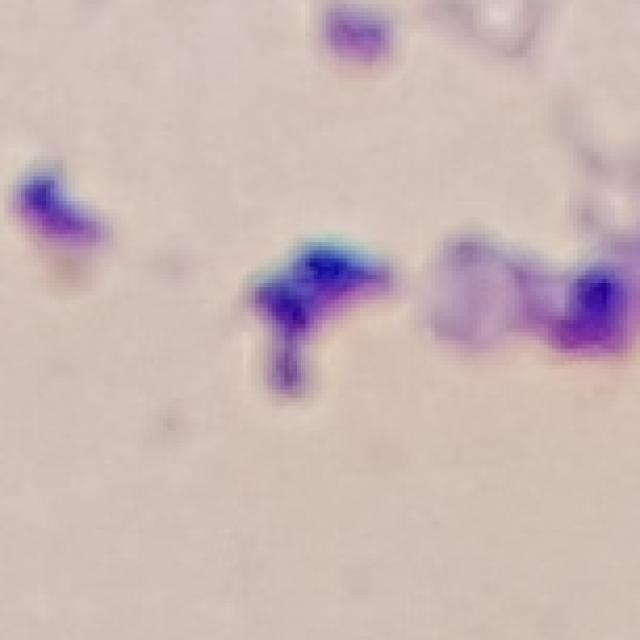non-sperm: (240, 220, 631, 405), (17, 154, 112, 268)
